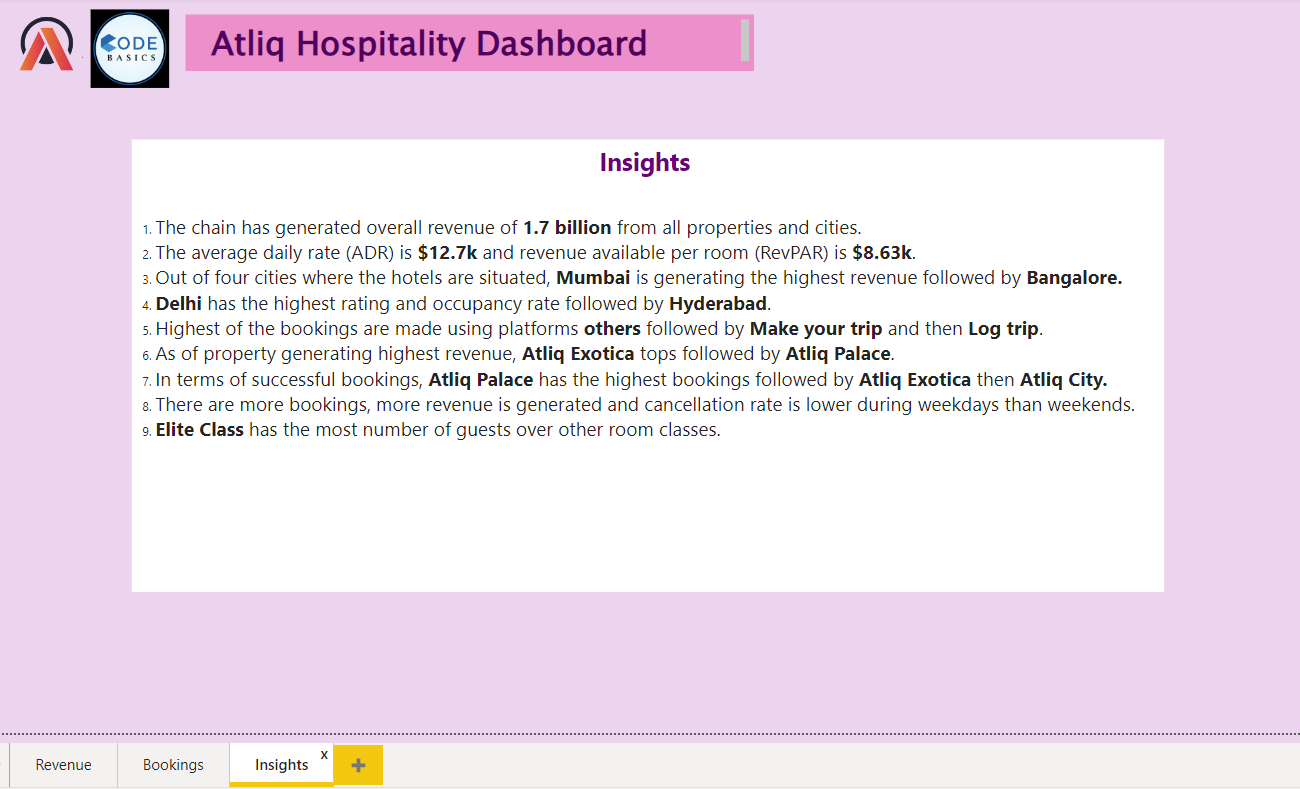

This screenshot's page, from the dashboard's own definition file:
{"tool":"powerbi","page":{"name":"Insights","canvas":[1280,720],"ordinal":2},"visuals":[{"type":"image","box":[79.5,7.3,108.8,86.8],"z":0},{"type":"image","box":[0,2.4,99,86.8],"z":1000},{"type":"textbox","box":[188.3,17.1,556.2,55],"z":2000},{"type":"textbox","box":[135.7,139.4,1009.7,442.5],"z":3000}]}

Visuals, with their boxes on the page's 1280x720 design canvas (x1, y1, x2, y2). These are canvas units, not pixel positions in the 1300x789 screenshot, which may show the page scaled, cropped or inside an application window:
image: 80 7 188 94
image: 0 2 99 89
textbox: 188 17 744 72
textbox: 136 139 1145 582
